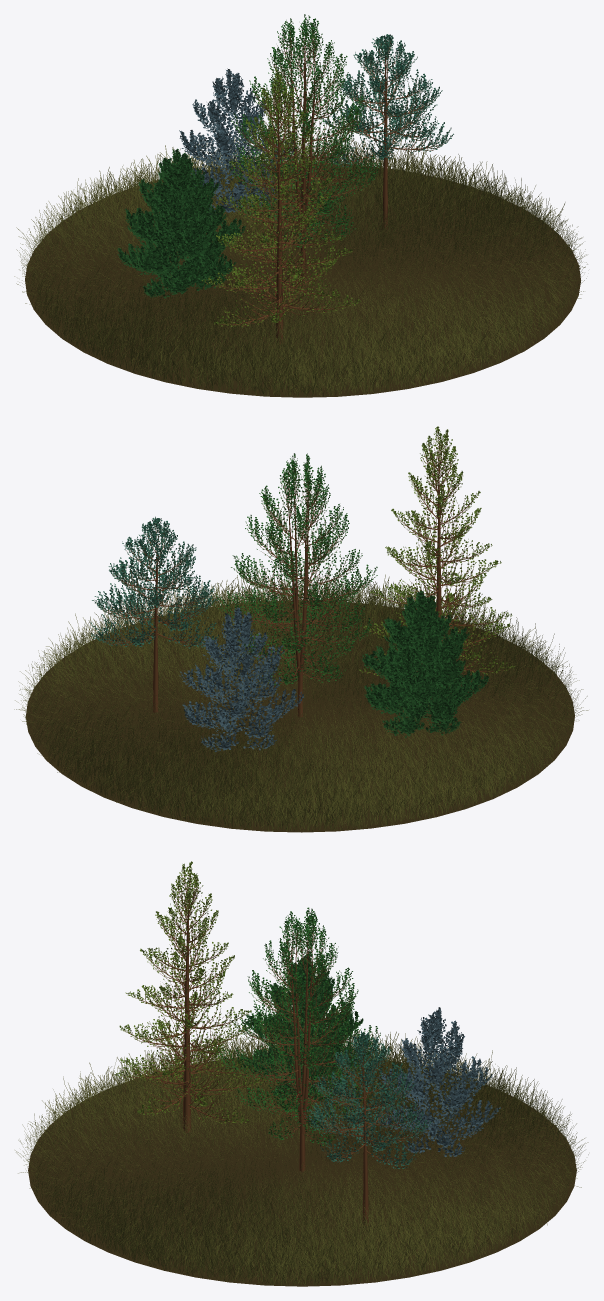
File: small_forest-compressed.glb
3 views of the same model, one above another, from view 1: azimuth 30°, elevation 25°; view 2: azimuth 150°, elevation 25°; view 3: azimuth 270°, elevation 25° (orthographic).
Visible parts, largest first — view 1: Object_4, Object_15, Object_25, Object_10, Object_21, Object_17, Object_19, Object_13; view 2: Object_4, Object_15, Object_25, Object_21, Object_10, Object_13, Object_17, Object_19; view 3: Object_4, Object_15, Object_25, Object_21, Object_17, Object_13, Object_19, Object_10.
Boxes of the visible parts, x1,y1,x2,y2 form: Object_4: (14, 126, 587, 397); Object_15: (25, 163, 580, 397); Object_25: (206, 20, 448, 344); Object_10: (117, 148, 245, 298); Object_21: (229, 14, 380, 247); Object_17: (201, 69, 360, 327); Object_19: (319, 34, 453, 167); Object_13: (179, 68, 293, 214); Object_4: (14, 569, 588, 832); Object_15: (25, 600, 574, 832); Object_25: (94, 430, 510, 717); Object_21: (212, 453, 377, 685); Object_10: (361, 590, 488, 738); Object_13: (179, 607, 303, 752); Object_17: (359, 426, 514, 675); Object_19: (90, 516, 218, 648); Object_4: (15, 1024, 588, 1286); Object_15: (28, 1057, 576, 1286); Object_25: (119, 867, 428, 1226); Object_21: (216, 907, 380, 1145); Object_17: (115, 861, 266, 1123); Object_13: (376, 1007, 500, 1156); Object_19: (304, 1031, 431, 1168); Object_10: (241, 953, 369, 1103).
Size of the model in its own units: 43.82 by 22.76 by 44.04.
